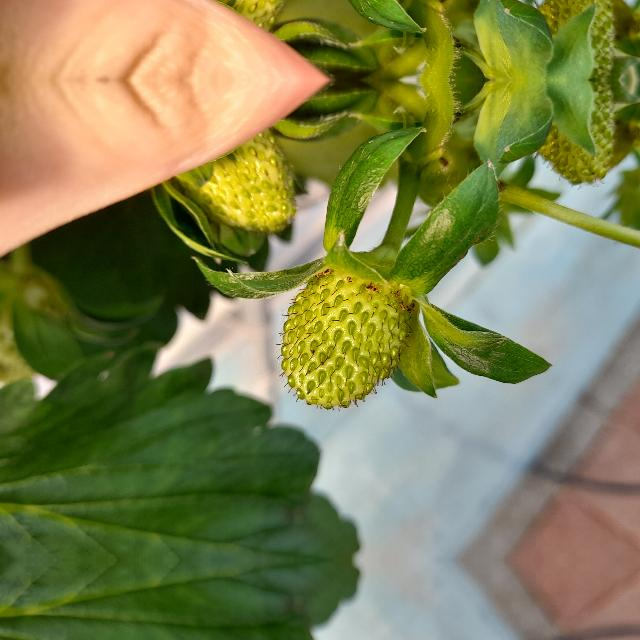Health_25: (275, 267, 413, 411), (181, 117, 301, 230), (534, 80, 640, 186), (534, 0, 639, 80), (181, 0, 301, 42)
